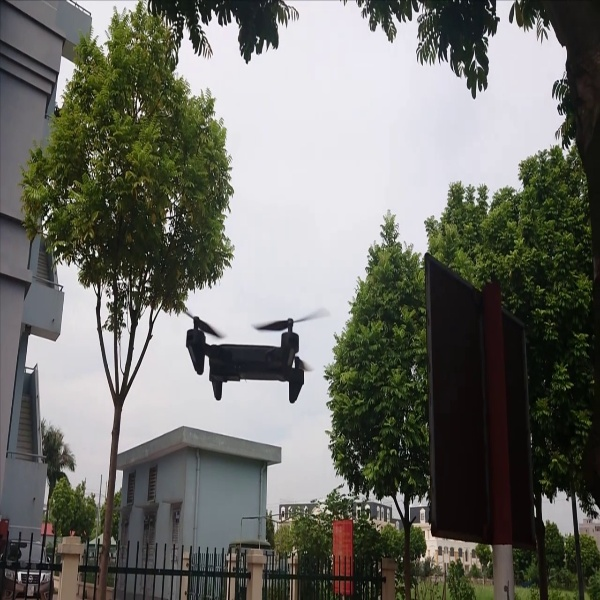drone: (175, 302, 327, 402)
